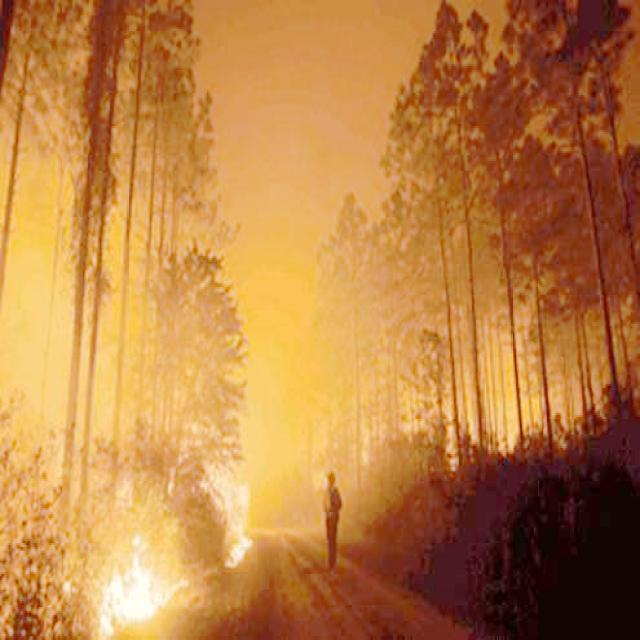api: (94, 559, 178, 640), (233, 514, 253, 584)
